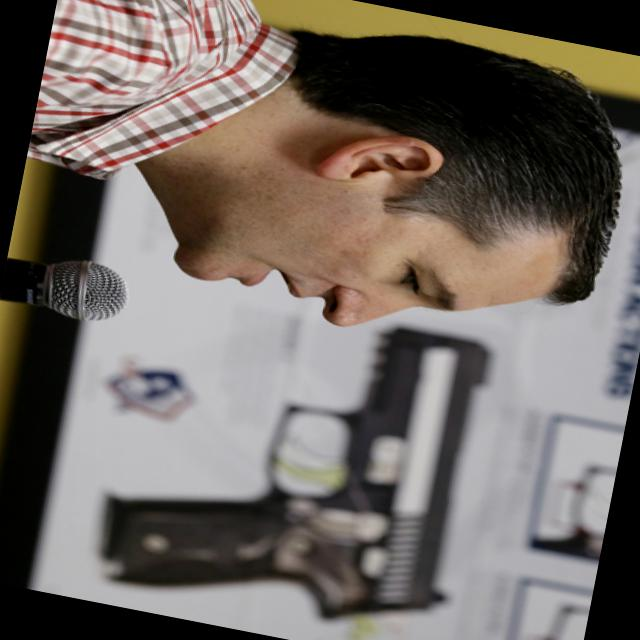handgun: (95, 278, 494, 639)
